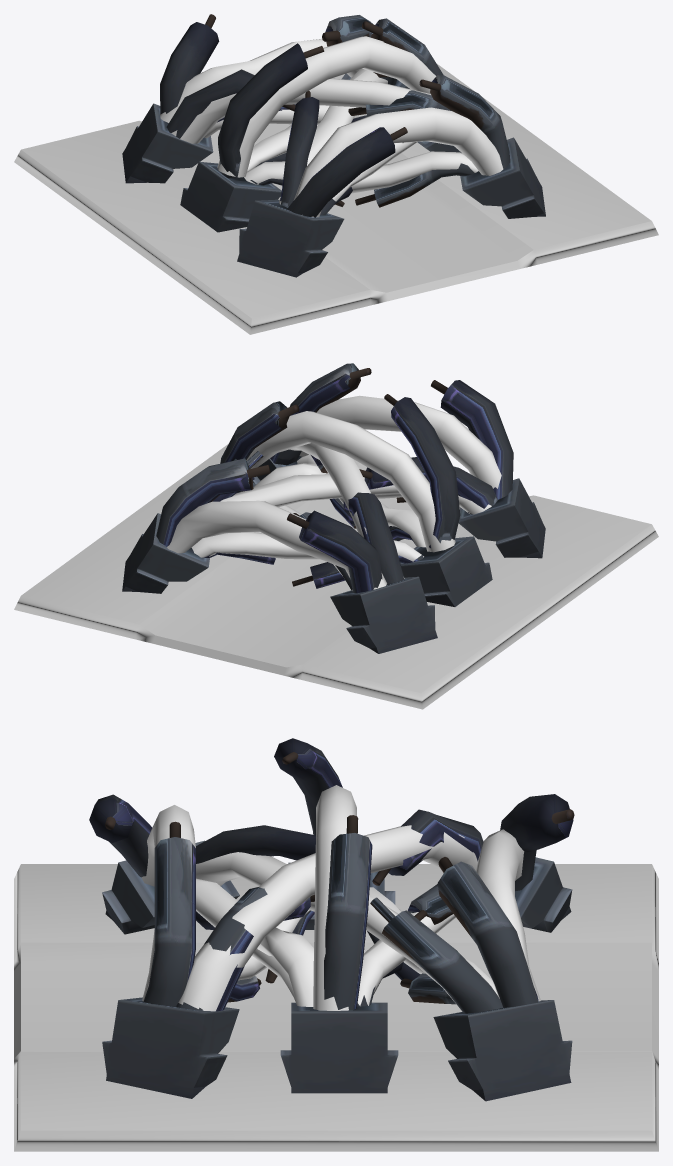
The model's file is WireSequencePageTemplate.fbx.
The picture shows the model from 3 angles, top to bottom: view 1: azimuth 30°, elevation 25°; view 2: azimuth 150°, elevation 25°; view 3: azimuth 270°, elevation 25°; orthographic projection. The views are drawn at different scales.
Parts seen in each view (by area): view 1: PannelBacking, Wire_Unsnipped (×9), Connector (×4), Wire_SnippedL (×5), Wire_SnippedR (×5); view 2: PannelBacking, Wire_Unsnipped (×7), Connector (×4), Wire_SnippedL (×6), Wire_SnippedR (×4); view 3: PannelBacking, Connector (×5), Wire_SnippedR (×7), Wire_Unsnipped (×8), Wire_SnippedL (×6).
Part boxes in pixels (x1,y1,x2,y2): PannelBacking: (14,63,658,334); Wire_Unsnipped (×9): (160,36,503,217); Connector (×4): (122,103,545,277); Wire_SnippedL (×5): (160,14,407,217); Wire_SnippedR (×5): (322,15,510,207); PannelBacking: (14,444,658,709); Wire_Unsnipped (×7): (167,395,501,589); Connector (×4): (122,478,545,653); Wire_SnippedL (×6): (287,380,513,593); Wire_SnippedR (×4): (156,363,371,546); PannelBacking: (14,864,658,1151); Connector (×5): (102,840,572,1101); Wire_SnippedR (×7): (143,815,538,1013); Wire_Unsnipped (×8): (141,785,540,1011); Wire_SnippedL (×6): (89,738,574,924).
Size of the model in its own units: 0.1205 by 0.0585 by 0.1205.
